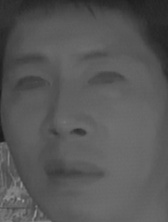eye: (86, 67, 128, 90), (11, 73, 51, 95)
mouth: (41, 156, 104, 194)
